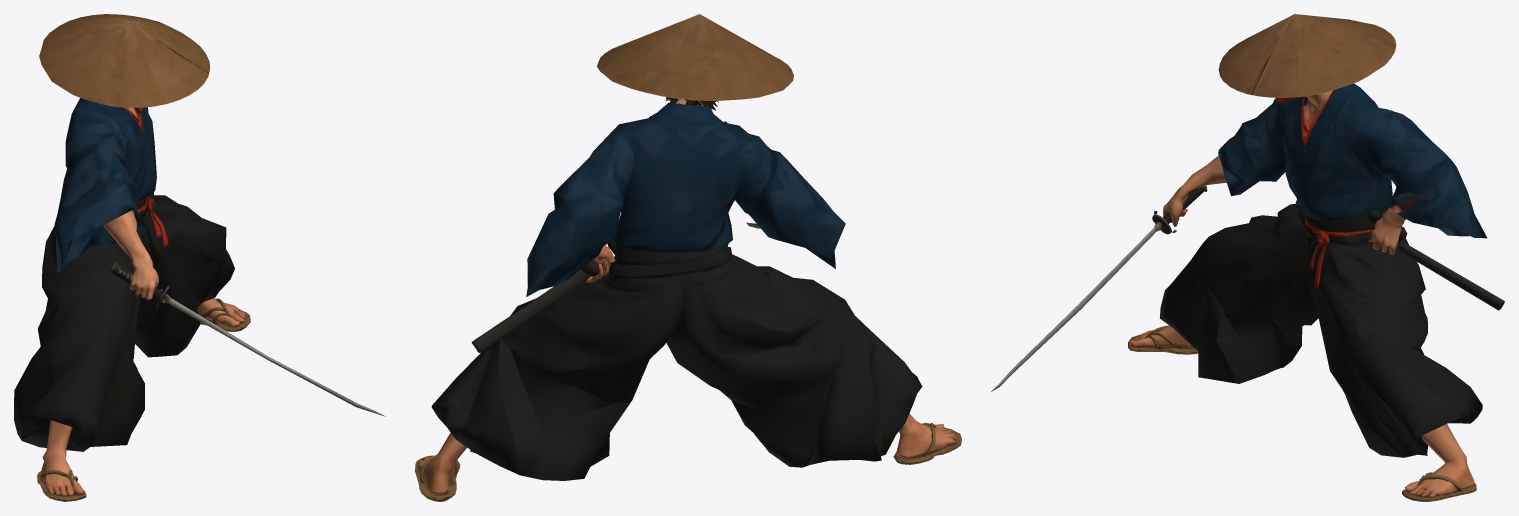
3 renders of one model, left to right at view 1: azimuth 30°, elevation 25°; view 2: azimuth 150°, elevation 25°; view 3: azimuth 270°, elevation 25°, orthographic. The views are drawn at different scales.
Parts seen in each view (by area): view 1: geometry_0; view 2: geometry_0; view 3: geometry_0.
Boxes of the visible parts, box(x1,y1,x2,y2) form: geometry_0: box(14, 14, 385, 501); geometry_0: box(415, 14, 961, 501); geometry_0: box(991, 14, 1504, 501).
Bounding box in the file's own units: 1.16 × 1.3 × 1.5.
1 material, 1 textured.
